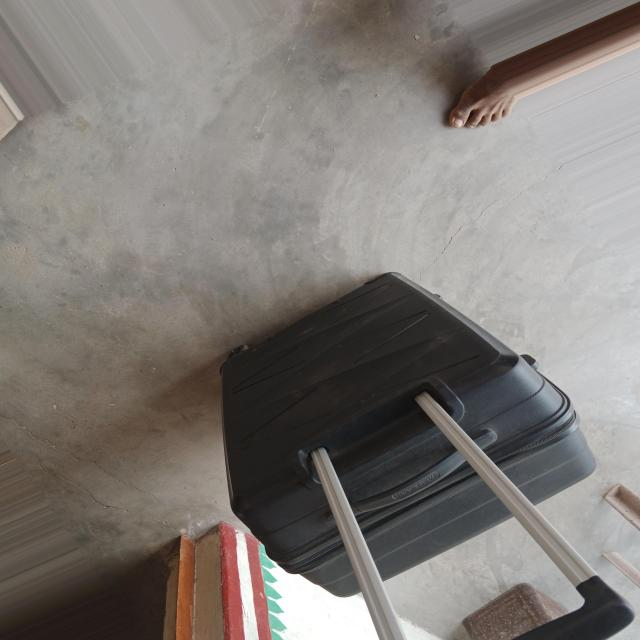Bag: (206, 264, 640, 640)
Handle: (298, 386, 640, 640)
